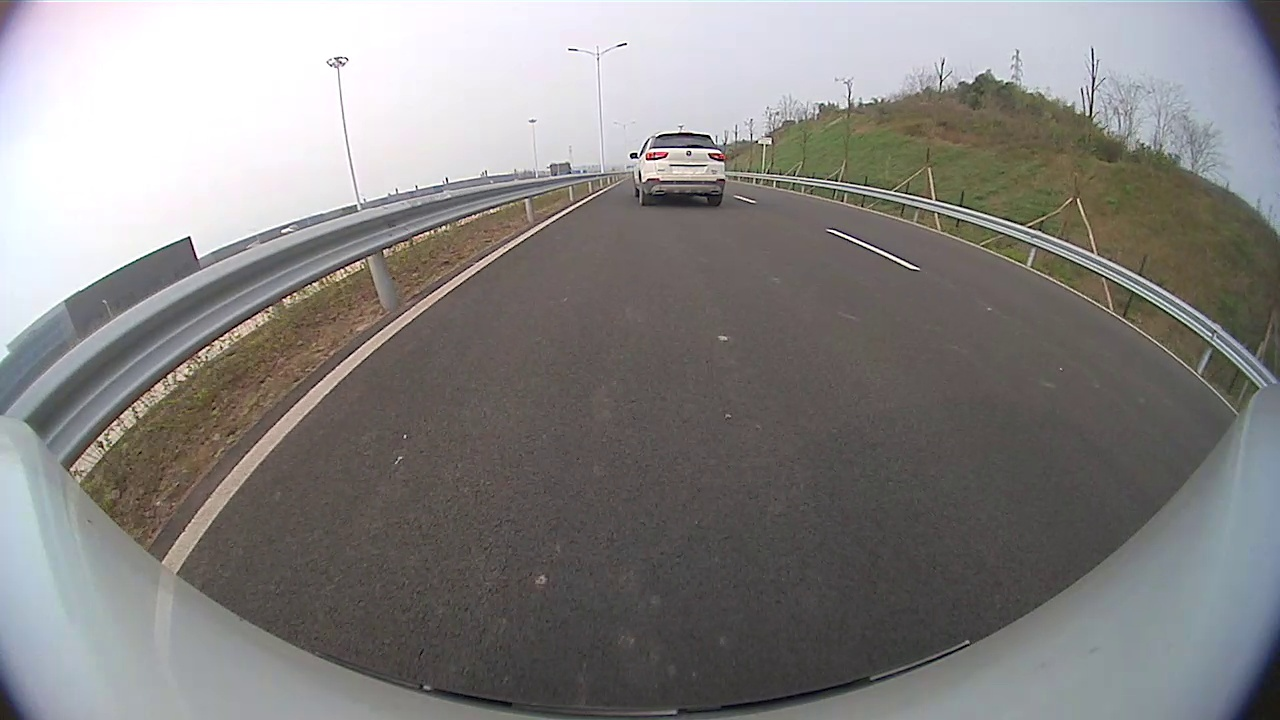car: (629, 130, 727, 208)
